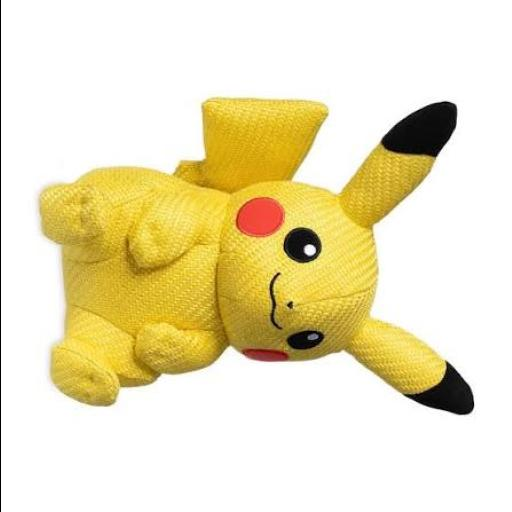Pikachu: (36, 98, 476, 416)
